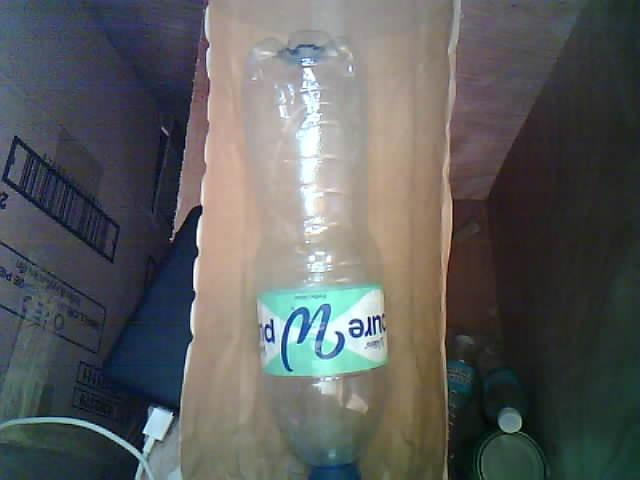large_bottle: (233, 19, 409, 480)
